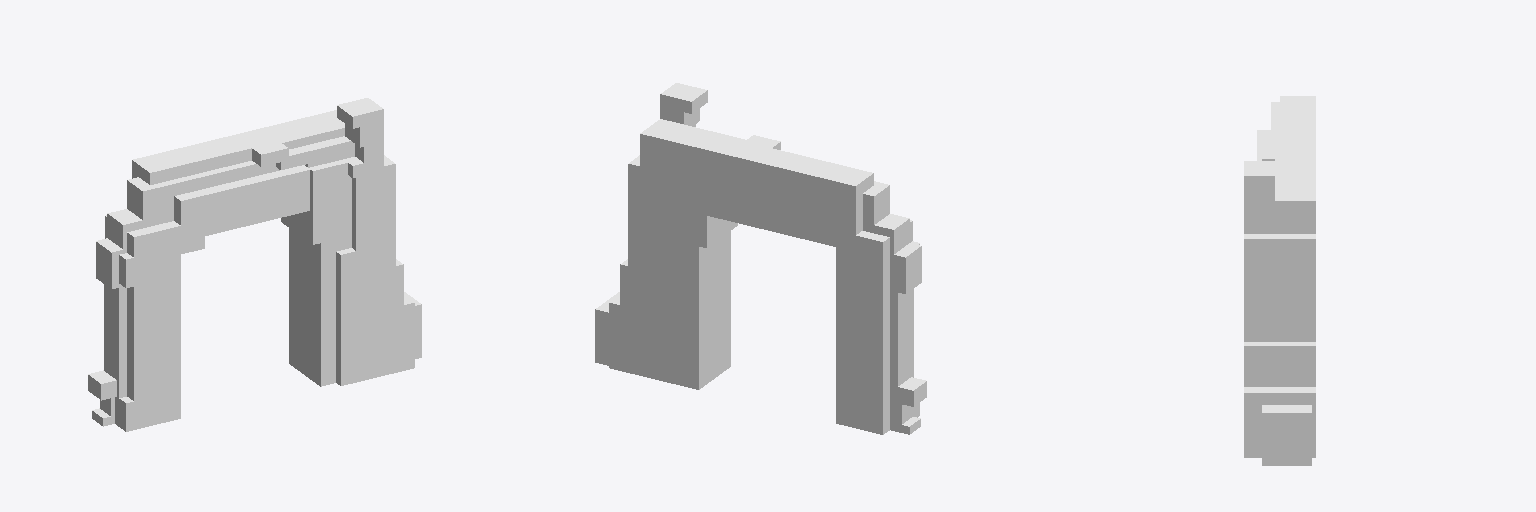
Rendered from shuzhi3.obj.
3 views of the same model, side by side, from view 1: azimuth 30°, elevation 25°; view 2: azimuth 150°, elevation 25°; view 3: azimuth 270°, elevation 25° (orthographic).
Bounding box in the file's own units: 80 × 65 × 16.